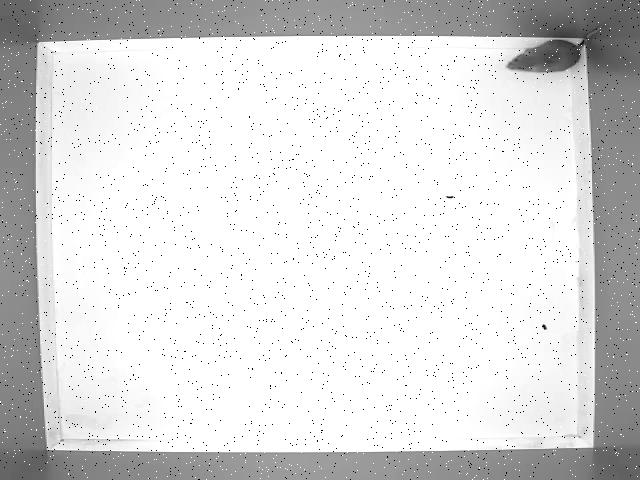Tikus: (504, 30, 596, 76)
